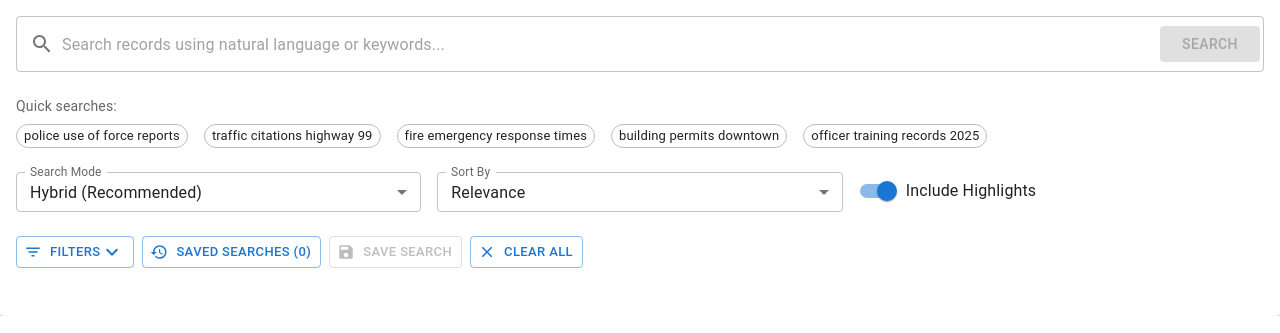
Test case: AdvancedSearchInterface › handles clear all functionality
In the field with placeholder "Search records using natural language or keywords...": (611, 44) [62,16,1160,72], type "test query"
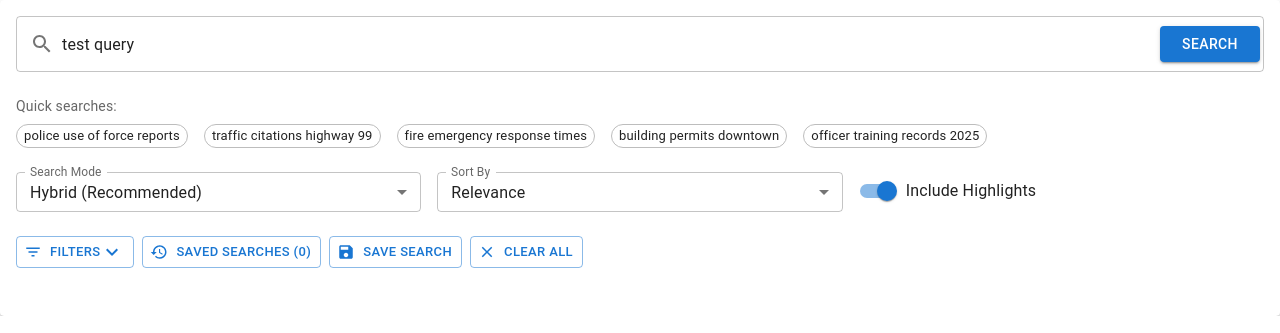
Click the button "Clear All": (527, 252) [470,236,583,268]
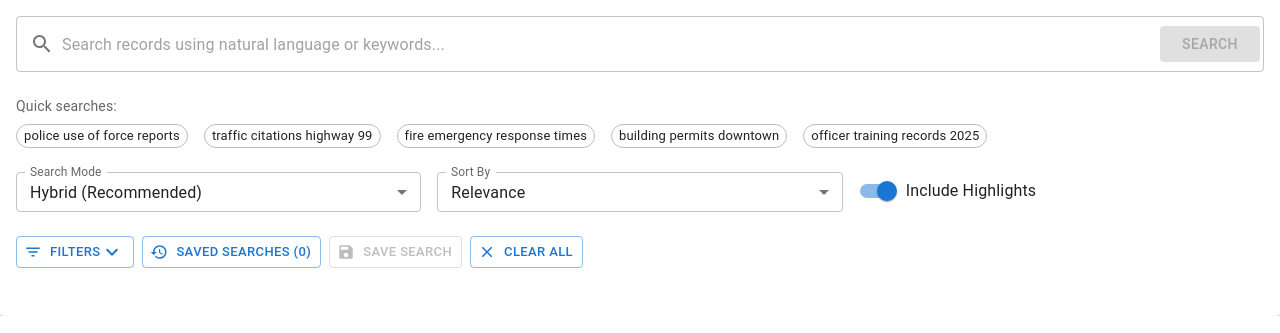
Expected: the field with placeholder "Search records using natural language or keywords..." is empty, [62,16,1160,72]
